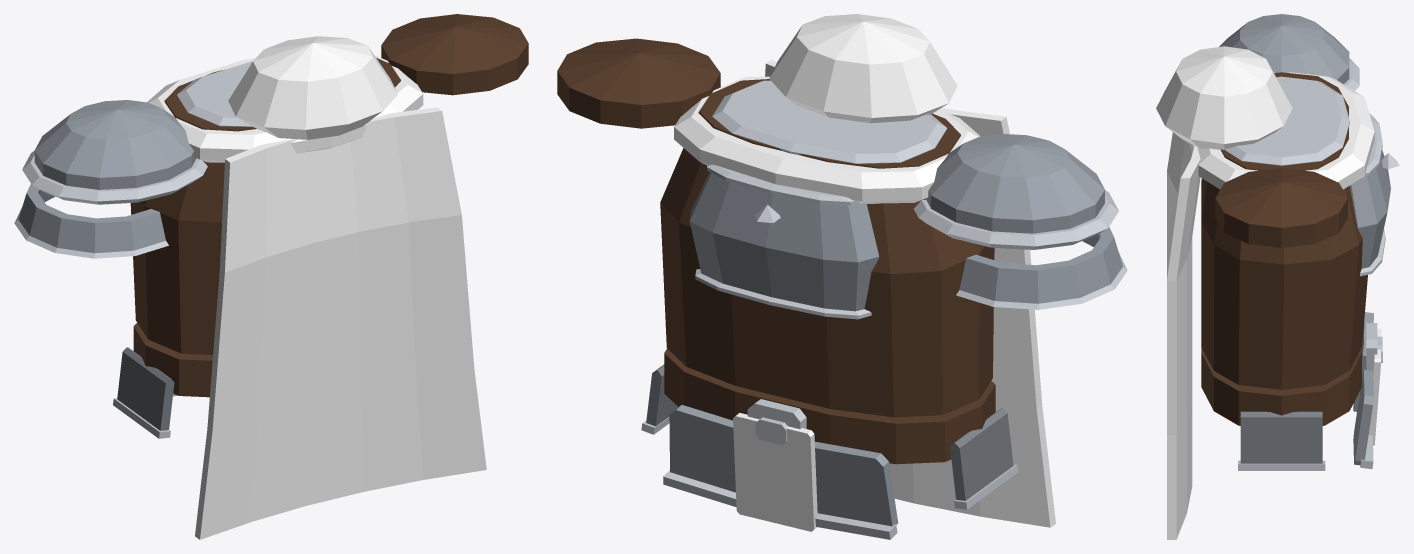
The model's file is look3_armor_bow_normal.fbx.
3 renders of one model, left to right at view 1: azimuth 30°, elevation 25°; view 2: azimuth 150°, elevation 25°; view 3: azimuth 270°, elevation 25°, orthographic. The views are drawn at different scales.
Visible parts, largest first — view 1: Main, Tasset; view 2: Main, Tasset; view 3: Main, Tasset.
Part boxes in pixels (x1,y1,x2,y2): Main: (14,14,528,539); Tasset: (113,347,177,438); Main: (557,14,1127,527); Tasset: (641,364,1018,539); Main: (1156,14,1399,539); Tasset: (1238,312,1381,470).
Bounding box in the file's own units: 396 × 337 × 179.
